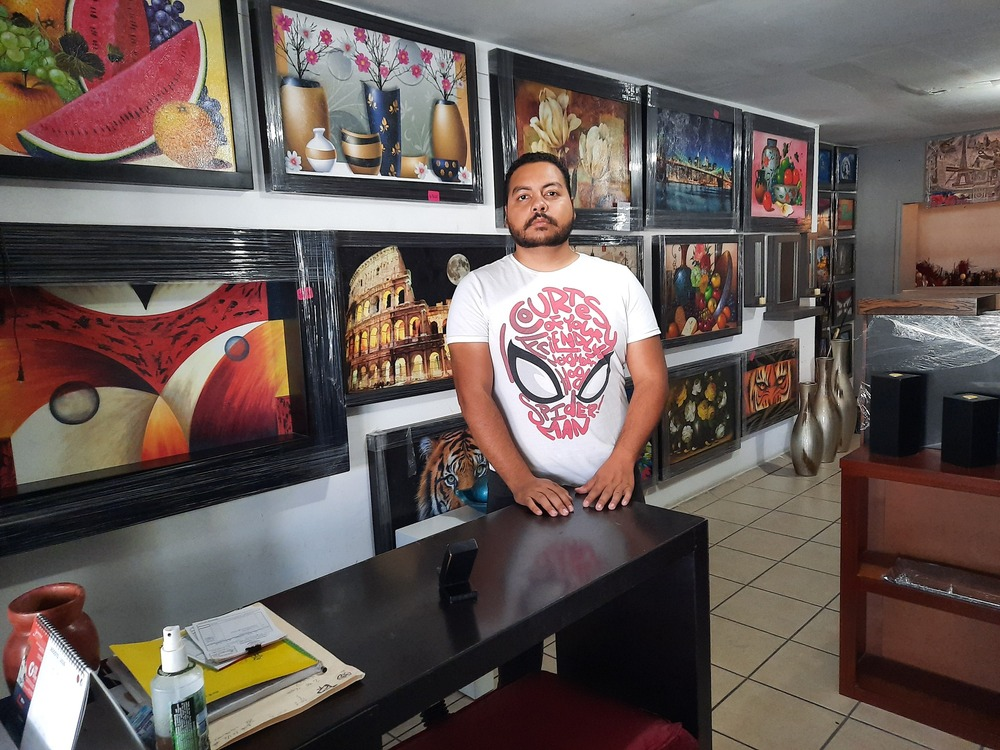Yoshi: (463, 158, 606, 258)
